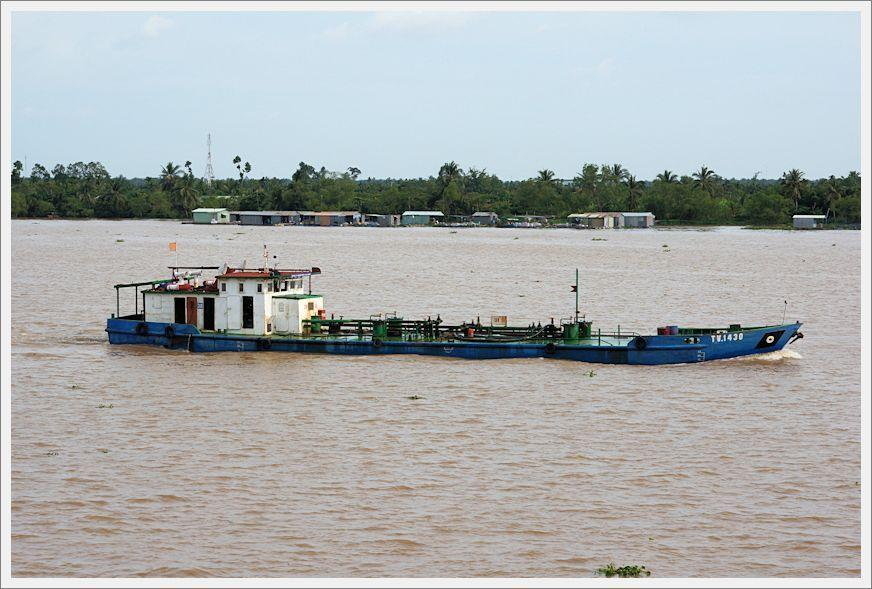Ship: (102, 269, 806, 368)
